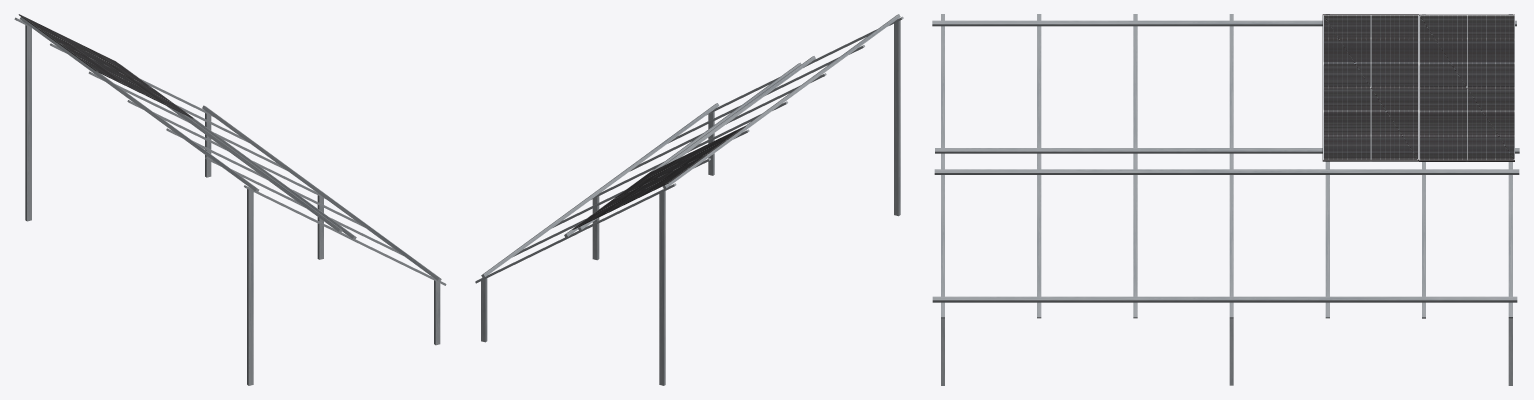
Rendered from solar_panel_ground_2.glb.
3 renders of one model, left to right at view 1: azimuth 30°, elevation 25°; view 2: azimuth 150°, elevation 25°; view 3: azimuth 270°, elevation 25°, orthographic. The views are drawn at different scales.
Parts seen in each view (by area): view 1: konstrukcja_metal.025, konstrukcja_metal.009, konstrukcja_metal.001, konstrukcja_metal.014, panel.006, panel.005, konstrukcja_metal.002, konstrukcja_metal.003, konstrukcja_metal.012; view 2: konstrukcja_metal.025, konstrukcja_metal.009, konstrukcja_metal.001, konstrukcja_metal.014, panel.005, panel.006, konstrukcja_metal.002, konstrukcja_metal.003, konstrukcja_metal.004, konstrukcja_metal.023; view 3: panel.006, panel.005, konstrukcja_metal.001, konstrukcja_metal.003, konstrukcja_metal.014, konstrukcja_metal.002, konstrukcja_metal.019, konstrukcja_metal.018, konstrukcja_metal.020, konstrukcja_metal.010, konstrukcja_metal.005, konstrukcja_metal.007 (+5 smaller).
Part boxes in pixels (x1=…): konstrukcja_metal.025: x1=247, y1=189, x2=253, y2=385; konstrukcja_metal.009: x1=25, y1=25, x2=31, y2=221; konstrukcja_metal.001: x1=202, y1=105, x2=441, y2=281; konstrukcja_metal.014: x1=20, y1=17, x2=259, y2=192; panel.006: x1=57, y1=42, x2=193, y2=118; panel.005: x1=18, y1=14, x2=152, y2=88; konstrukcja_metal.002: x1=167, y1=106, x2=342, y2=232; konstrukcja_metal.003: x1=120, y1=64, x2=356, y2=239; konstrukcja_metal.012: x1=434, y1=280, x2=440, y2=345; konstrukcja_metal.025: x1=894, y1=20, x2=900, y2=216; konstrukcja_metal.009: x1=659, y1=191, x2=665, y2=385; konstrukcja_metal.001: x1=481, y1=103, x2=719, y2=277; konstrukcja_metal.014: x1=662, y1=14, x2=900, y2=189; panel.005: x1=572, y1=154, x2=707, y2=229; panel.006: x1=611, y1=126, x2=745, y2=200; konstrukcja_metal.002: x1=578, y1=56, x2=815, y2=230; konstrukcja_metal.003: x1=564, y1=62, x2=801, y2=237; konstrukcja_metal.004: x1=481, y1=278, x2=487, y2=342; konstrukcja_metal.023: x1=592, y1=196, x2=599, y2=260; panel.006: x1=1322, y1=14, x2=1418, y2=161; panel.005: x1=1419, y1=14, x2=1514, y2=161; konstrukcja_metal.001: x1=932, y1=296, x2=1517, y2=302; konstrukcja_metal.003: x1=934, y1=169, x2=1519, y2=174; konstrukcja_metal.014: x1=932, y1=20, x2=1516, y2=26; konstrukcja_metal.002: x1=935, y1=148, x2=1519, y2=153; konstrukcja_metal.019: x1=1133, y1=14, x2=1137, y2=168; konstrukcja_metal.018: x1=1229, y1=14, x2=1233, y2=168; konstrukcja_metal.020: x1=1037, y1=14, x2=1041, y2=168; konstrukcja_metal.010: x1=1133, y1=168, x2=1137, y2=318; konstrukcja_metal.005: x1=1508, y1=168, x2=1512, y2=318; konstrukcja_metal.007: x1=1325, y1=168, x2=1329, y2=318.
Size of the model in its own units: 6.8 by 6.68 by 13.84.
2 materials, 2 textured.
